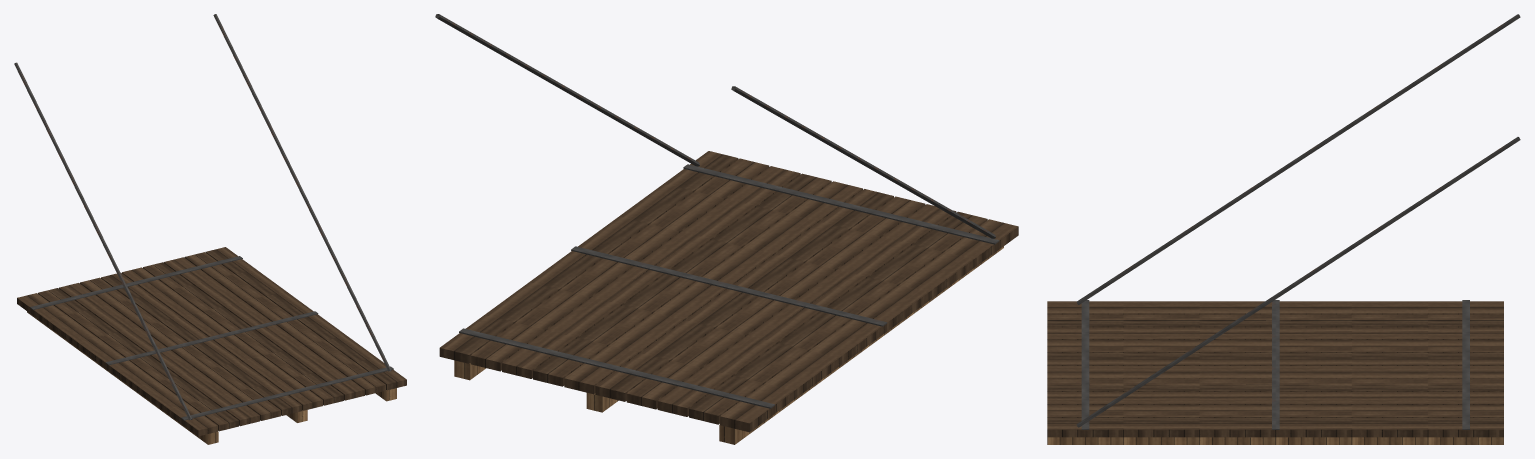
The model's file is Drawbridge_1.gltf.
The picture shows the model from 3 angles, left to right: view 1: azimuth 30°, elevation 25°; view 2: azimuth 150°, elevation 25°; view 3: azimuth 270°, elevation 25°; orthographic projection. The views are drawn at different scales.
Parts seen in each view (by area): view 1: Drawbridge_1; view 2: Drawbridge_1; view 3: Drawbridge_1.
Boxes of the visible parts, bbox=[...] form: Drawbridge_1: bbox=[14, 14, 406, 444]; Drawbridge_1: bbox=[435, 14, 1018, 444]; Drawbridge_1: bbox=[1047, 14, 1520, 444].
Bounding box in the file's own units: 4 × 4.5 × 6.2.
3 materials, 3 textured.
